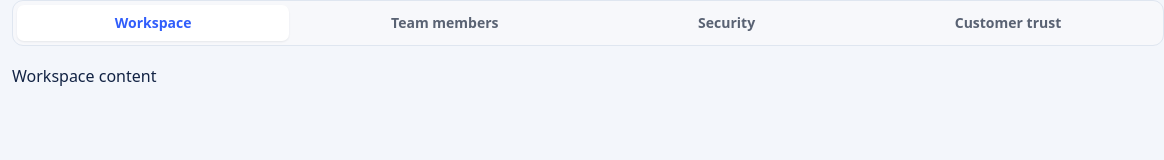
Test case: SettingsSections › records a section change without duplicating the previous hash
The image size is (1164, 160).
What coordinates should you click on to do the following:
click the link "Team members"
I would click on:
 (445, 22)
Its box is [391,13,499,32].
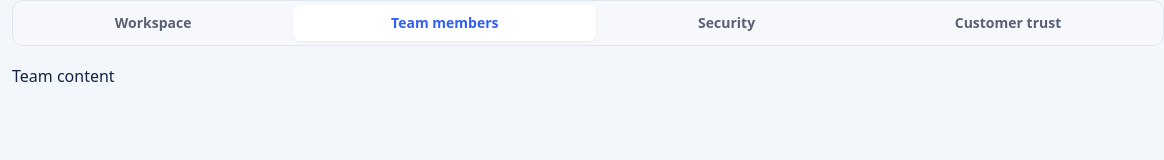
Expected: the text "Team content" is shown, [12,64,115,86]
